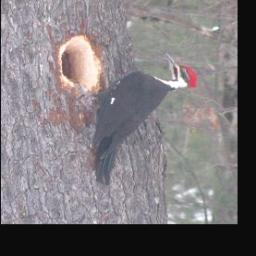Woodpecker: (67, 52, 201, 185)
